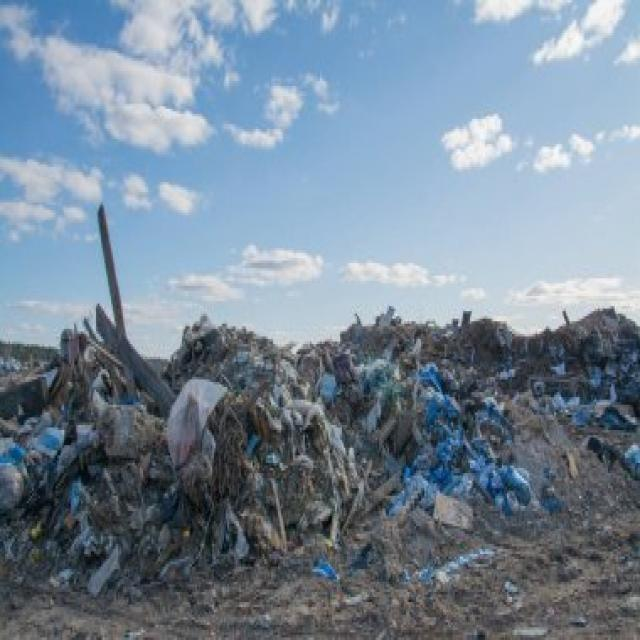garbage: (0, 294, 640, 634)
